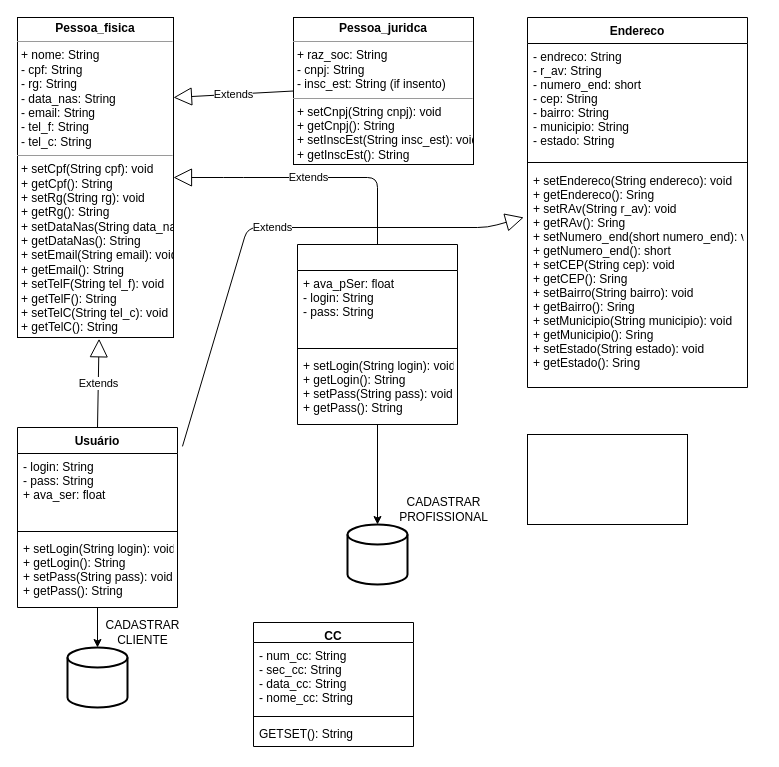
The diagram is 779 pixels wide and 767 high, and some of its shapes have lost their labels. Here are the shapes that lost their labels. From the top down, the box of each, then its label:
(296, 244, 458, 424): Profissional
(526, 434, 688, 524): Suporte + nome: String - num_atende: int + method(): Type
